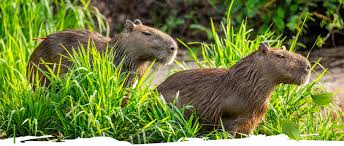capivara: (153, 41, 312, 137), (26, 18, 178, 96)
